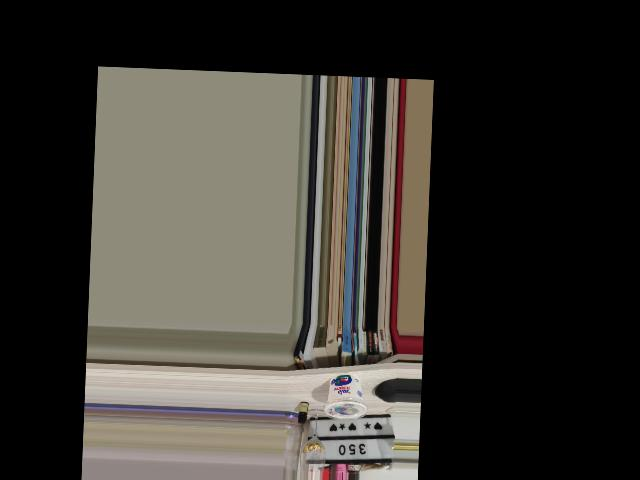cotage: (326, 371, 365, 421)
